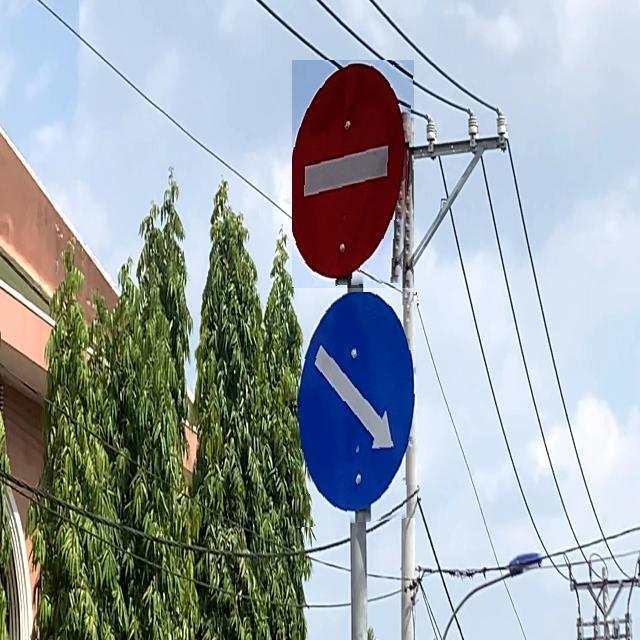P-102: (292, 60, 414, 288)
R-302a: (291, 292, 417, 528)
